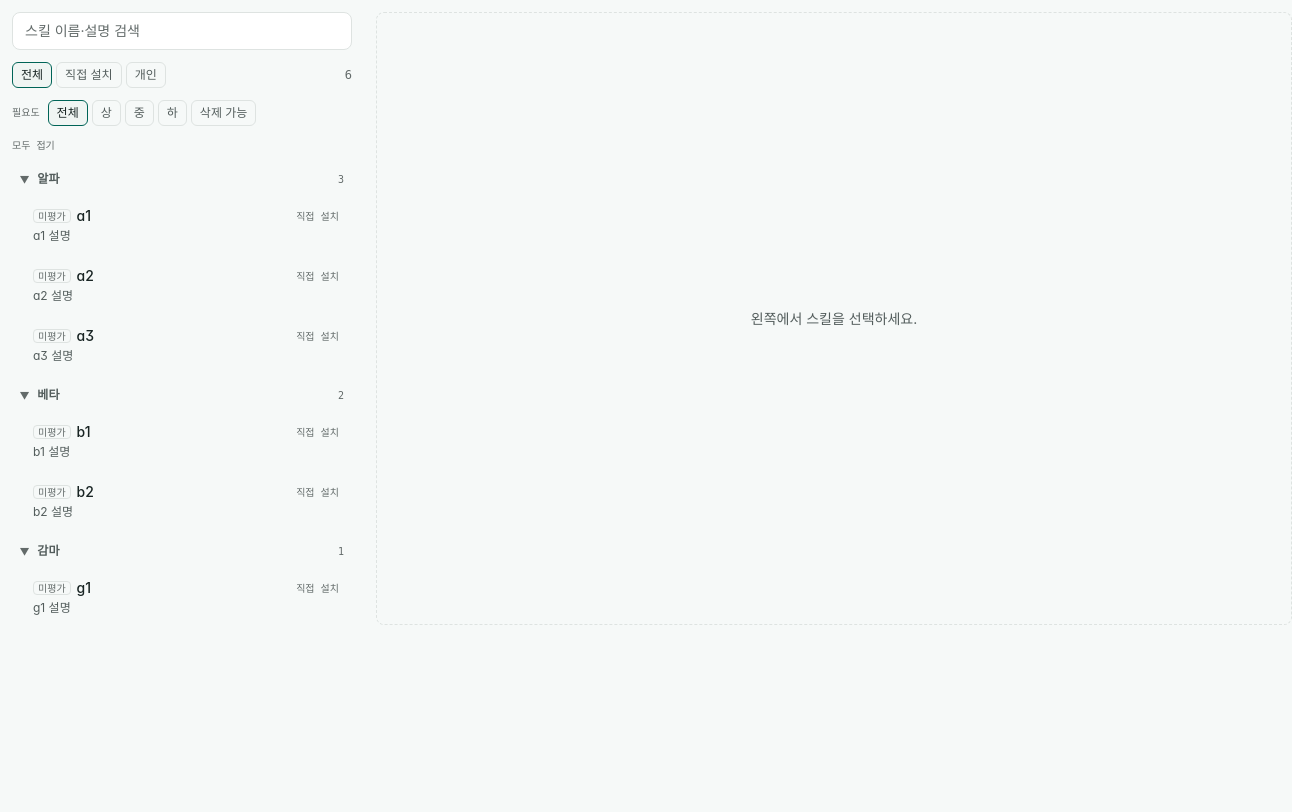
Test case: SkillCatalog 접기/펼치기 › 접은 섹션 다시 누르면 펼침 복원 (토글)
This screenshot has width=1292, height=812.
Step 1. Click the button "▶ 알파 3" → click(25, 179), box 12,165 -> 352,193
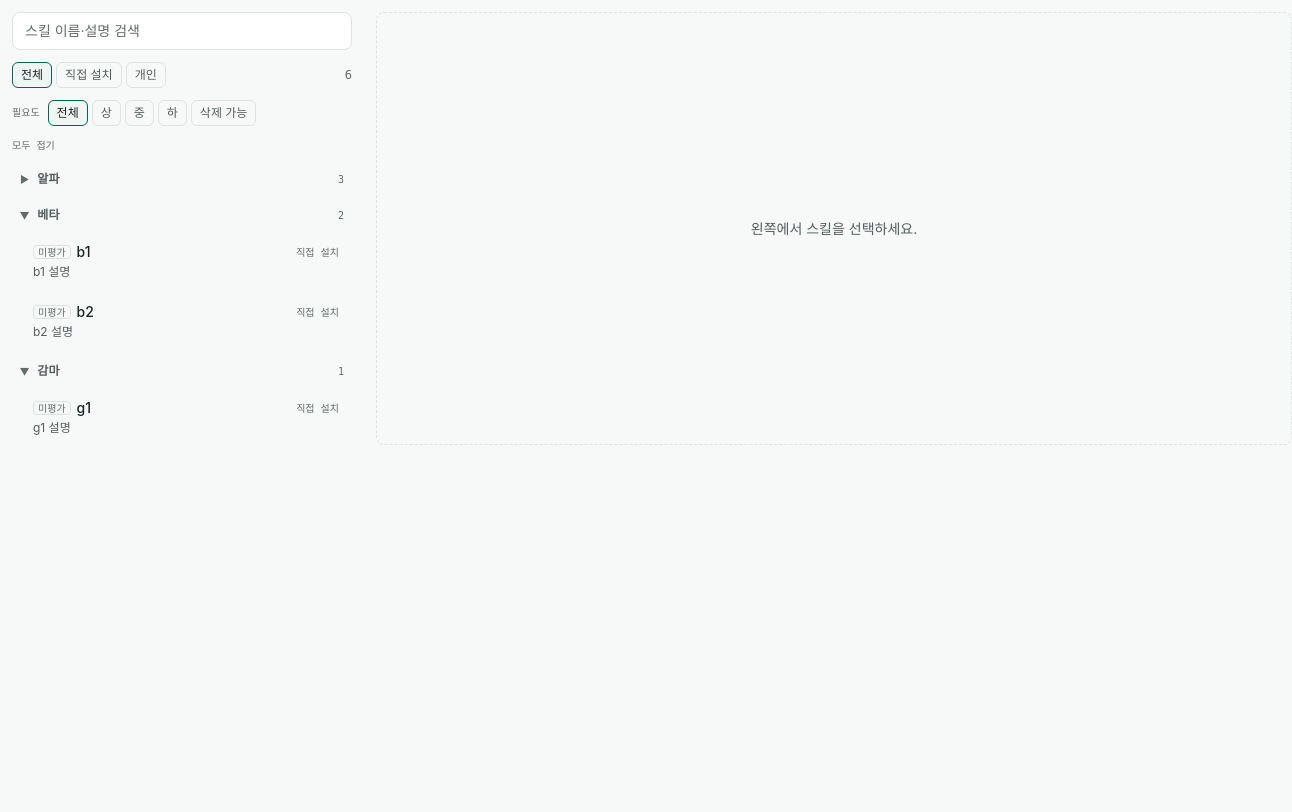
Check: the button "▶ 알파 3" is collapsed
Step 2. Click the button "▶ 알파 3" → click(25, 178), box 12,165 -> 352,193
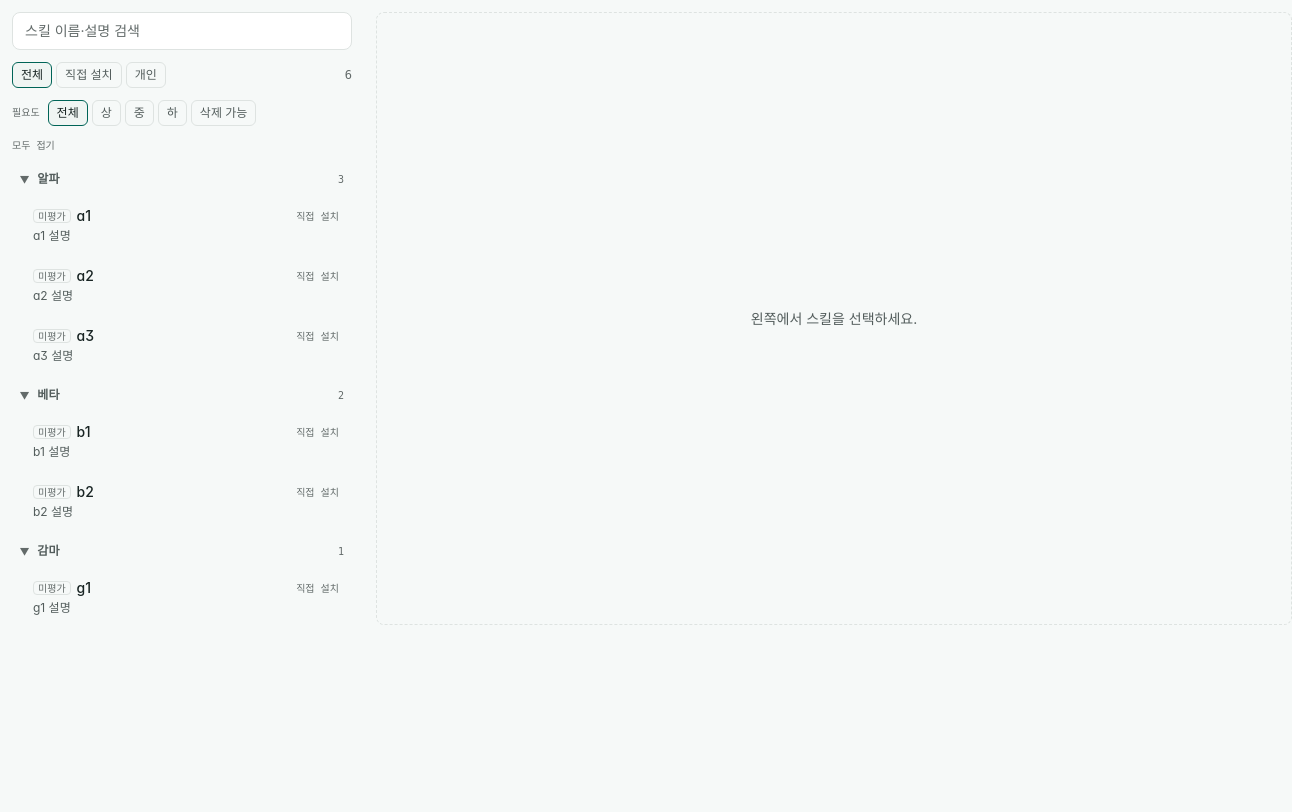
Check: the button "▶ 알파 3" is expanded, box 12,165 -> 352,193
